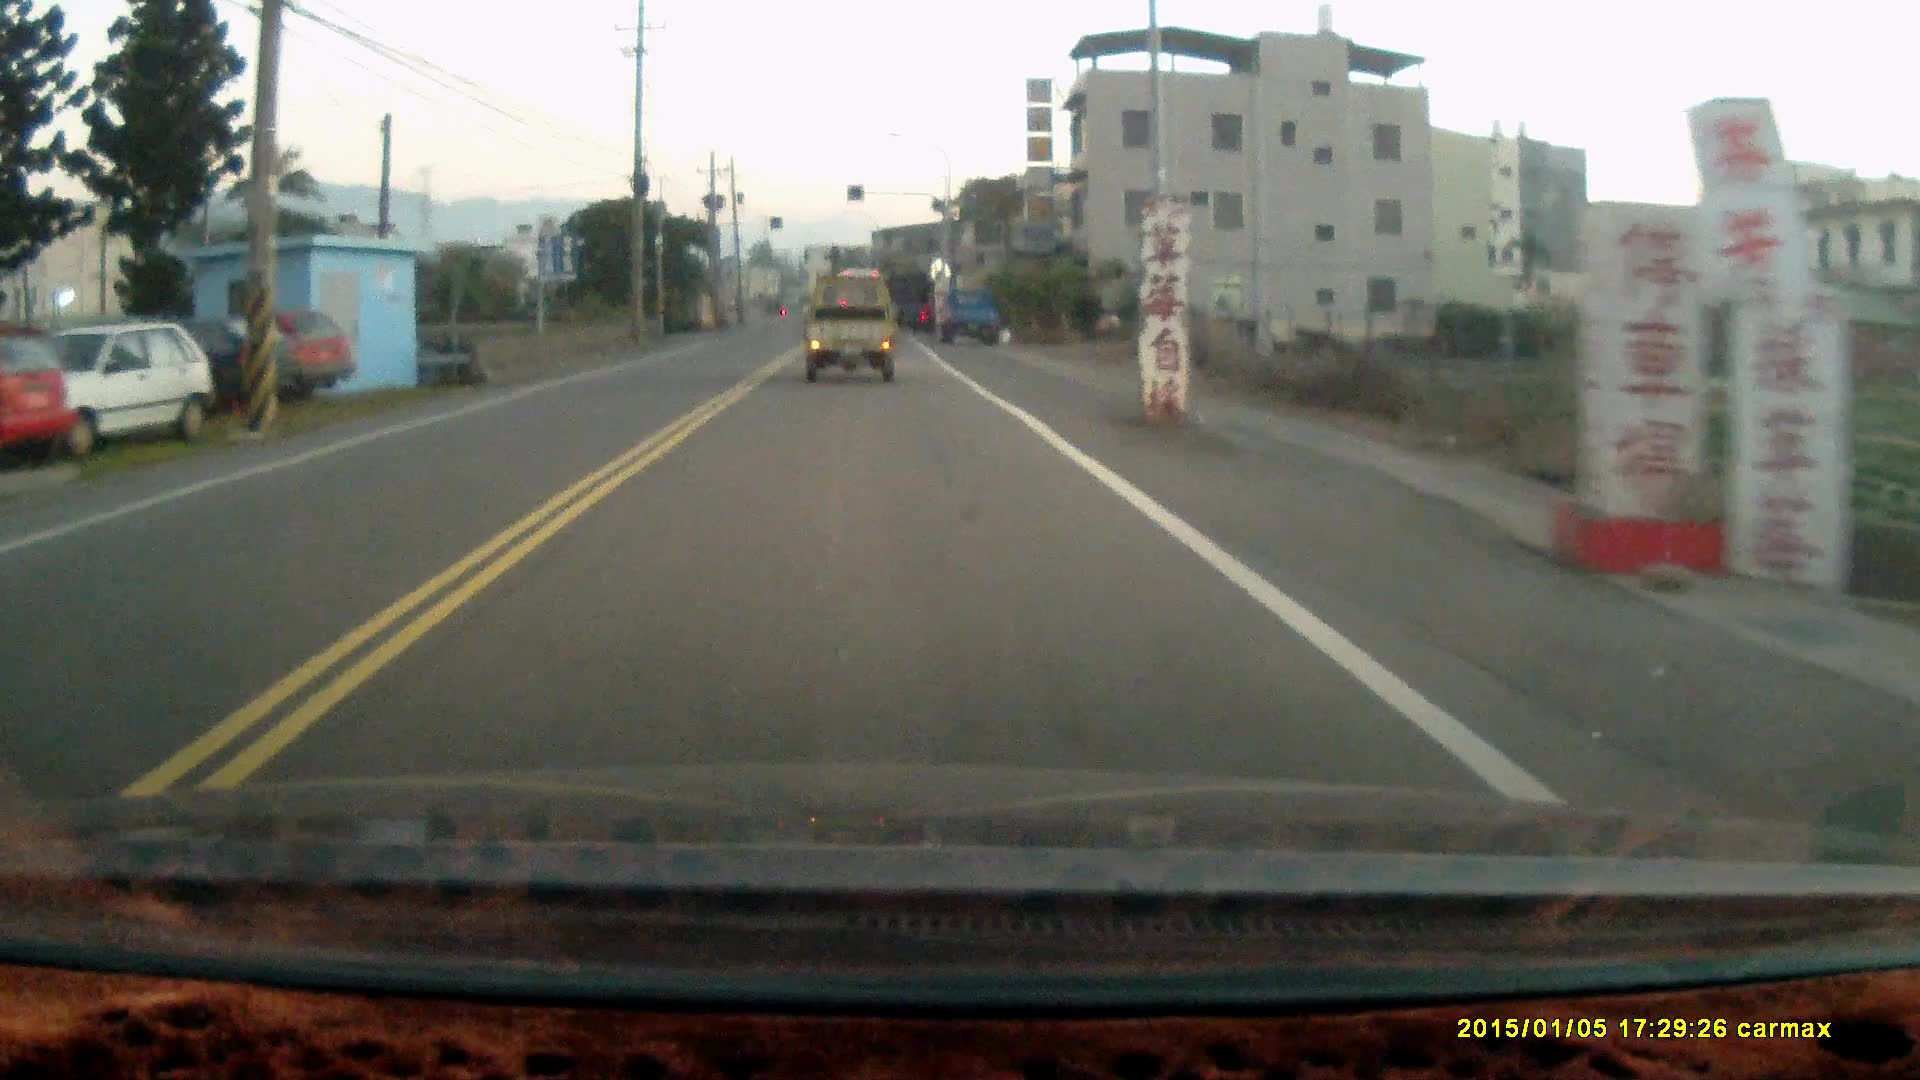vehicle: (1, 320, 214, 452), (162, 297, 363, 392), (1, 318, 84, 463), (804, 272, 902, 392), (939, 284, 1007, 342), (884, 272, 938, 332)
